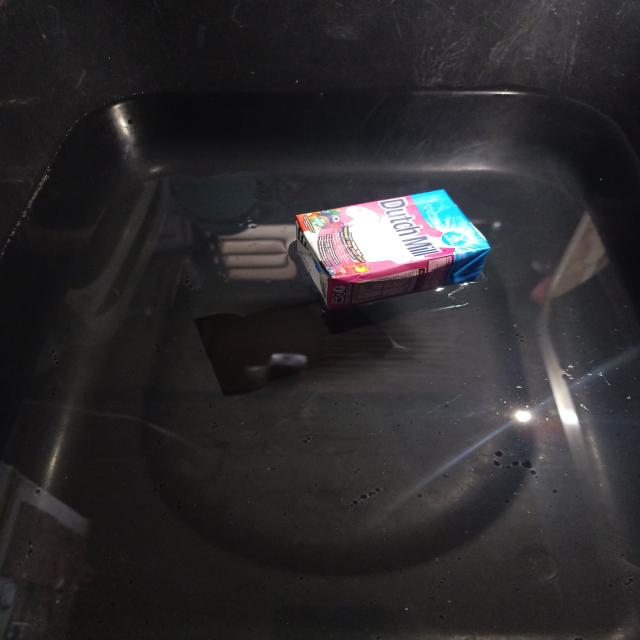Cardboard Box: (296, 190, 490, 309)
